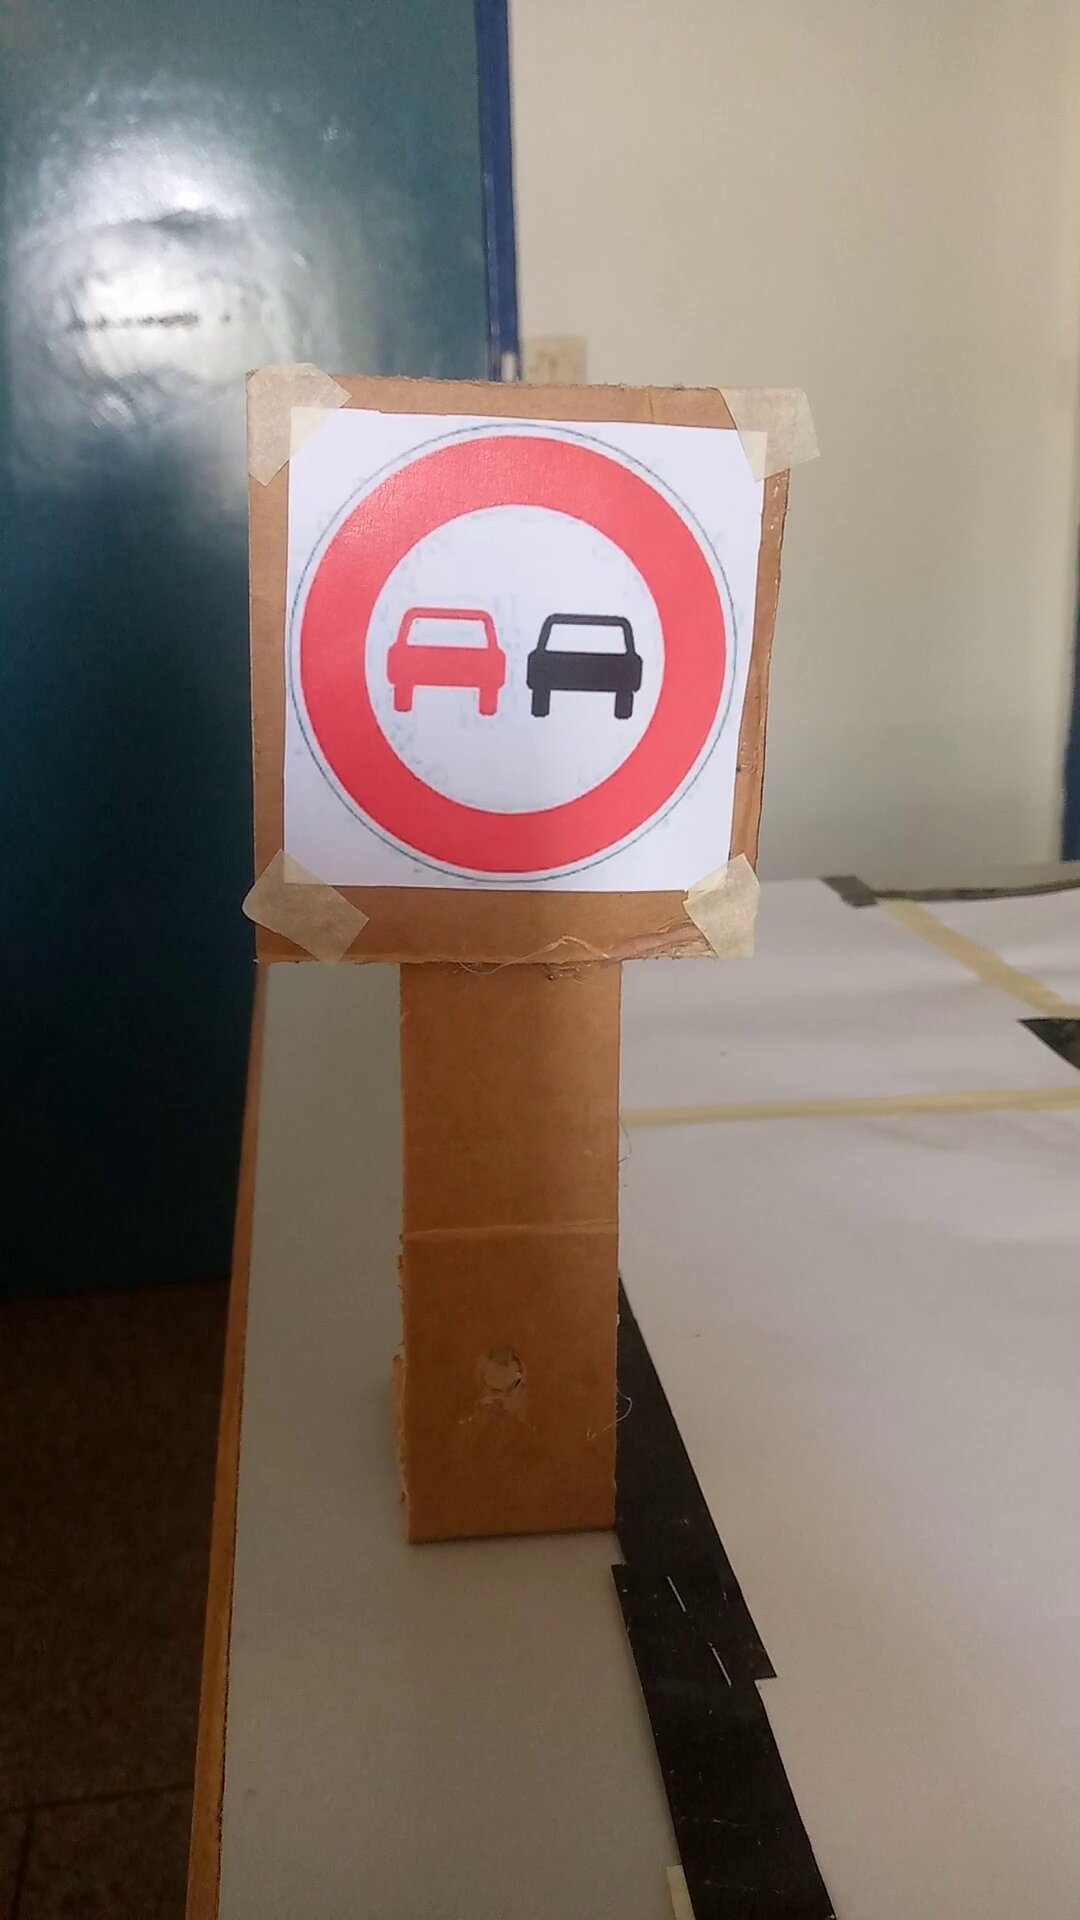panel100: (293, 400, 738, 891)
